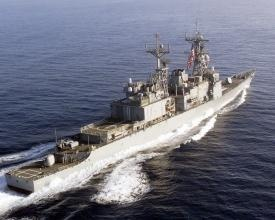warship: (2, 27, 258, 194)
